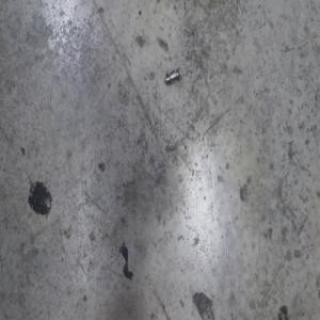Bolttrack_idkeyframe: (164, 66, 180, 86)
